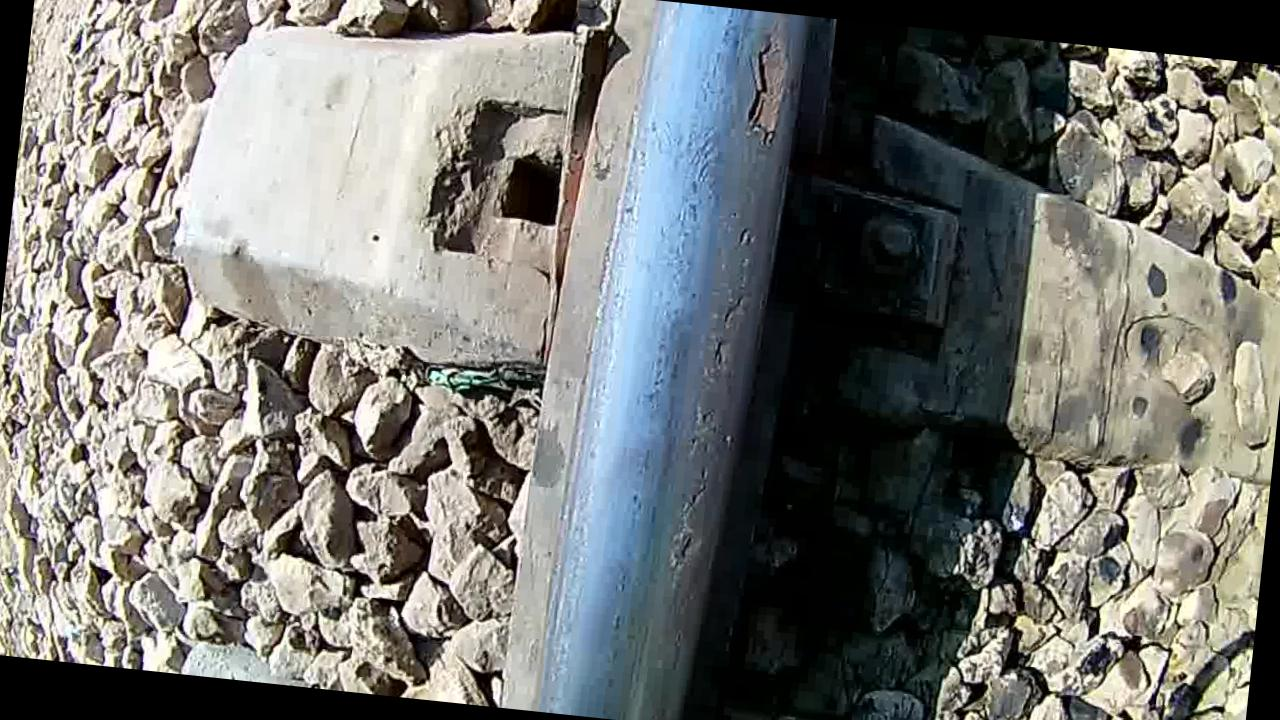crack: (558, 0, 827, 720)
